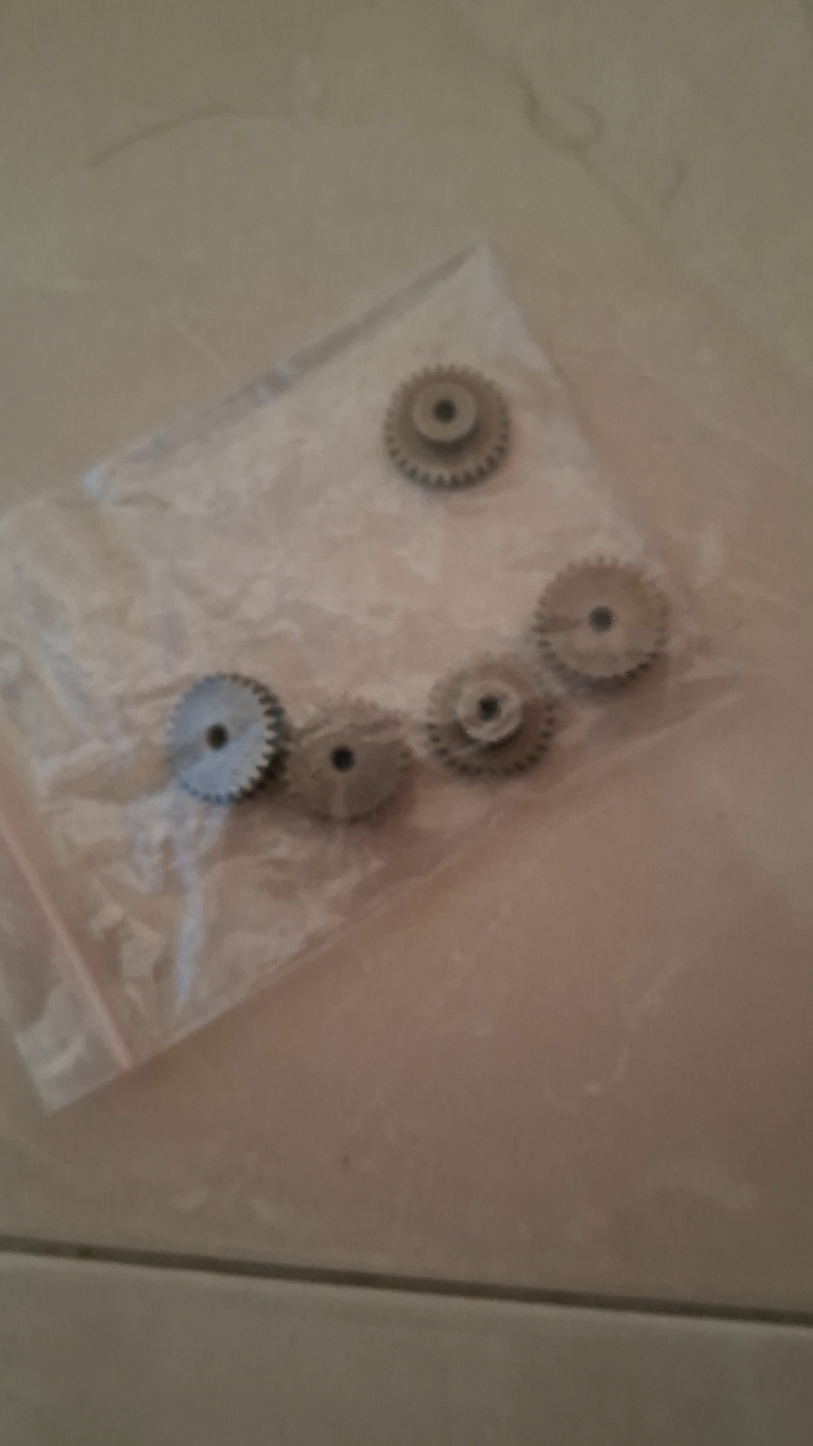spur gear: (534, 558, 668, 685), (167, 674, 285, 804), (283, 700, 410, 820), (426, 657, 556, 774), (385, 366, 509, 488)
